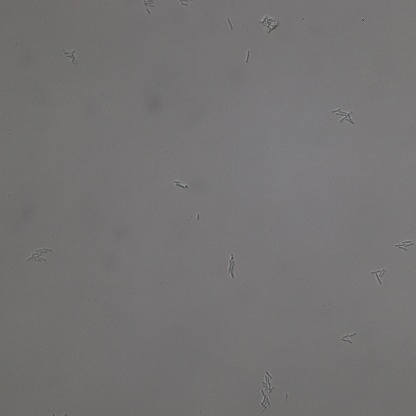R(colony): (332, 107, 355, 124), (27, 247, 53, 262), (262, 368, 275, 393), (371, 267, 386, 285), (394, 239, 414, 251), (340, 331, 356, 345), (260, 392, 271, 411)
